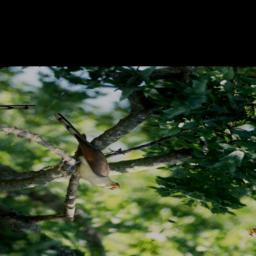Cuckoo: (7, 110, 164, 194)
